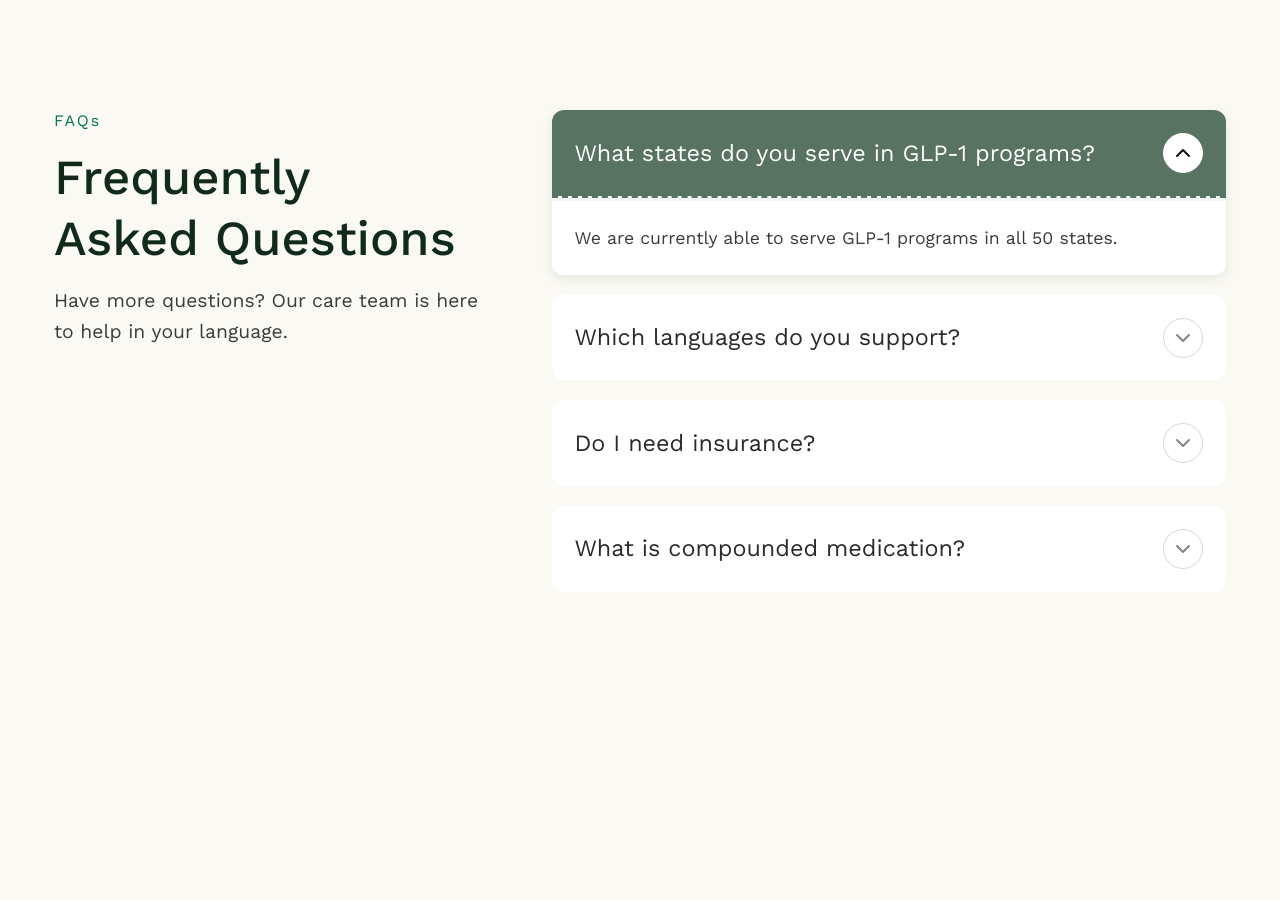
Test: FaqSection › opens the first question and lets several stay open
Expected: the text "We are currently able to serve GLP-1 programs in all 50 states." is shown, [574,224,1203,252]
Step 1. Click the button "Which languages do you support?" → (889, 338), box [552,295,1226,380]
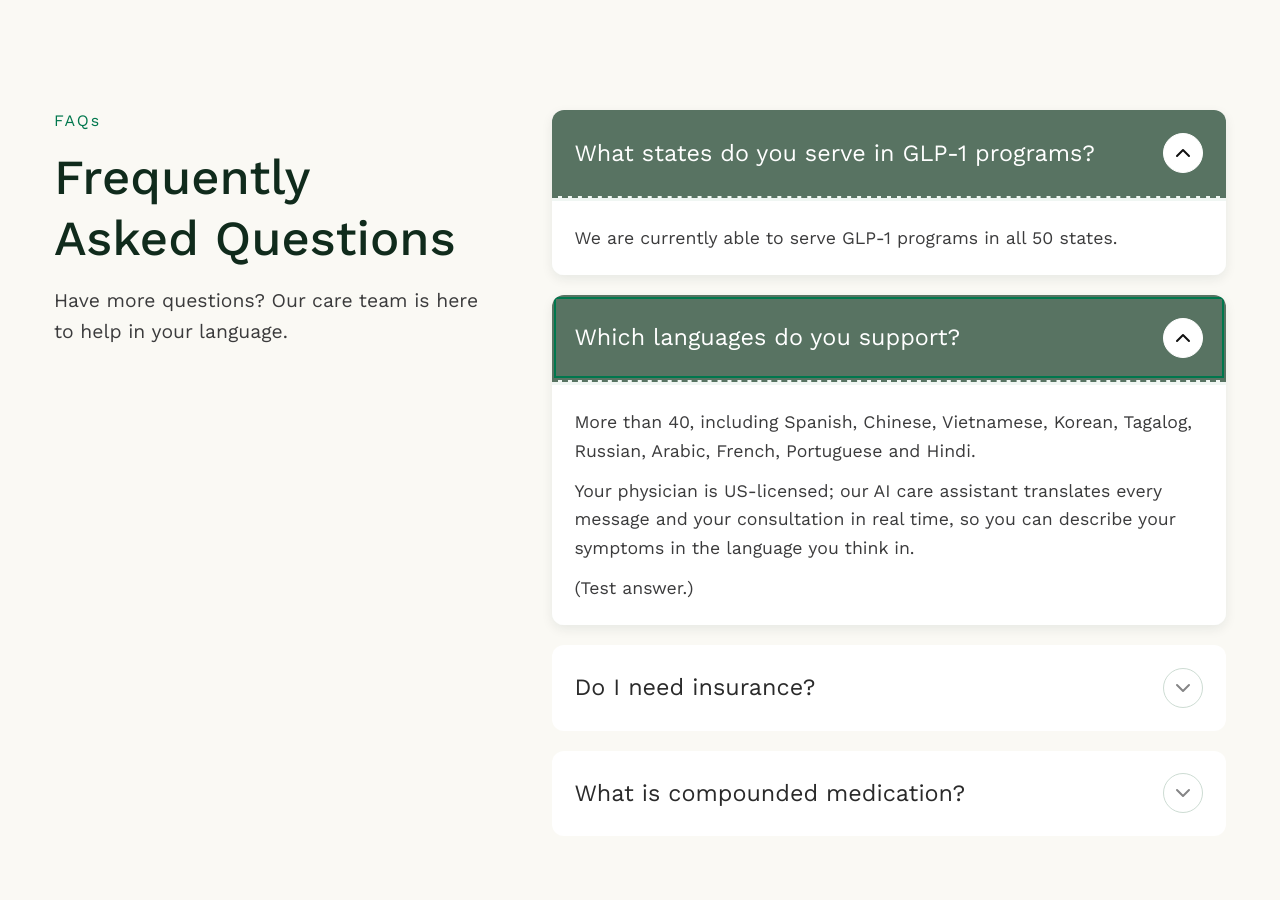
Expected: the button "Which languages do you support?" is expanded, [552,295,1226,380]
Step 2. Click the button "What states do you serve in GLP-1 programs?" → (889, 153), box [552,110,1226,196]
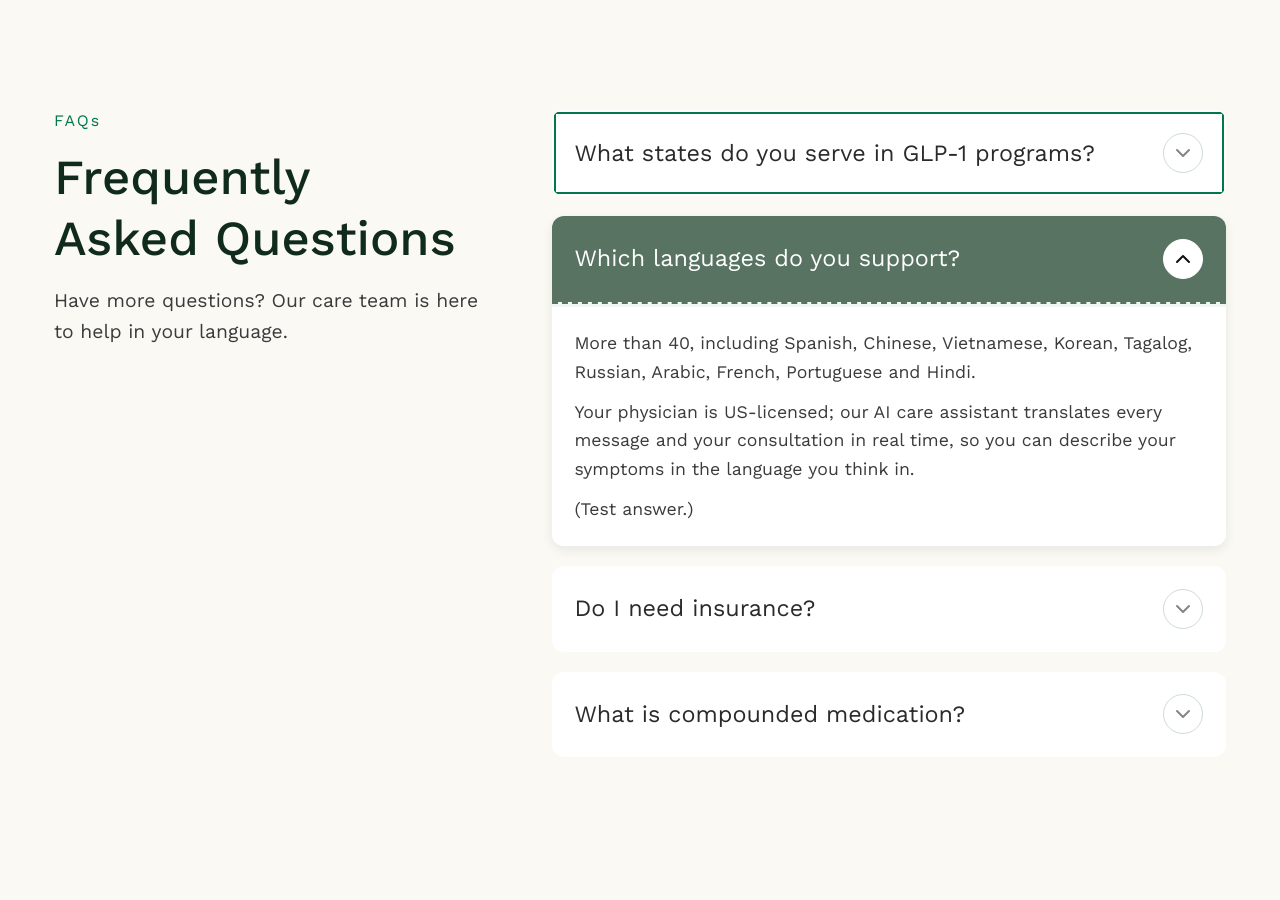
Expected: the button "What states do you serve in GLP-1 programs?" is collapsed, [552,110,1226,196]
